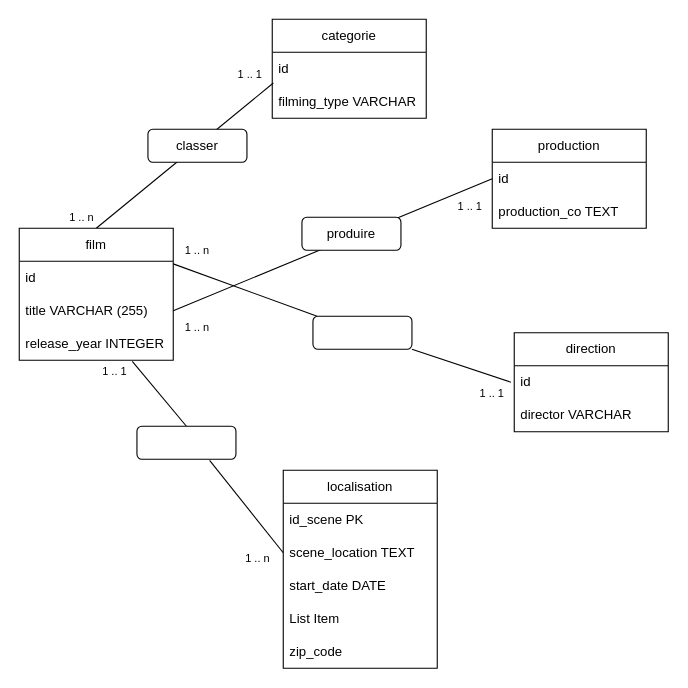
Image size: 688x688. Some labels were removed from this diagram. Here are the shapes that lost their labels. From the top down, the centre of each, then its label:
At (362,332): "diriger".
At (186,442): "Se deroule".
